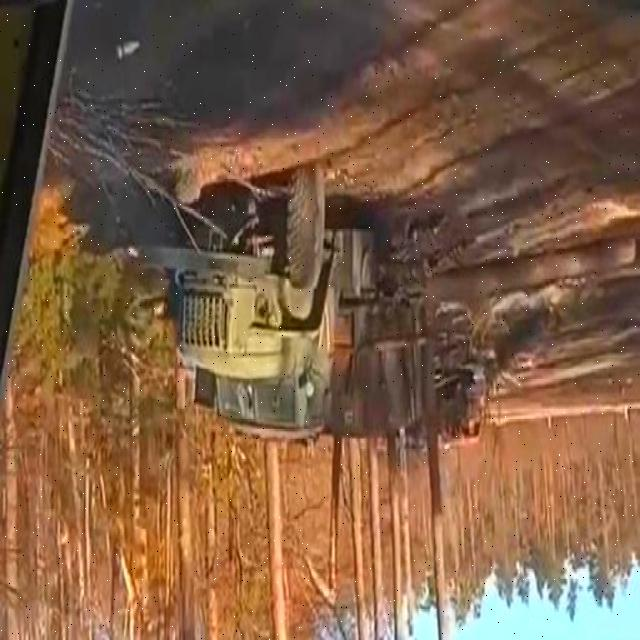TRUCK: (156, 164, 425, 468)
